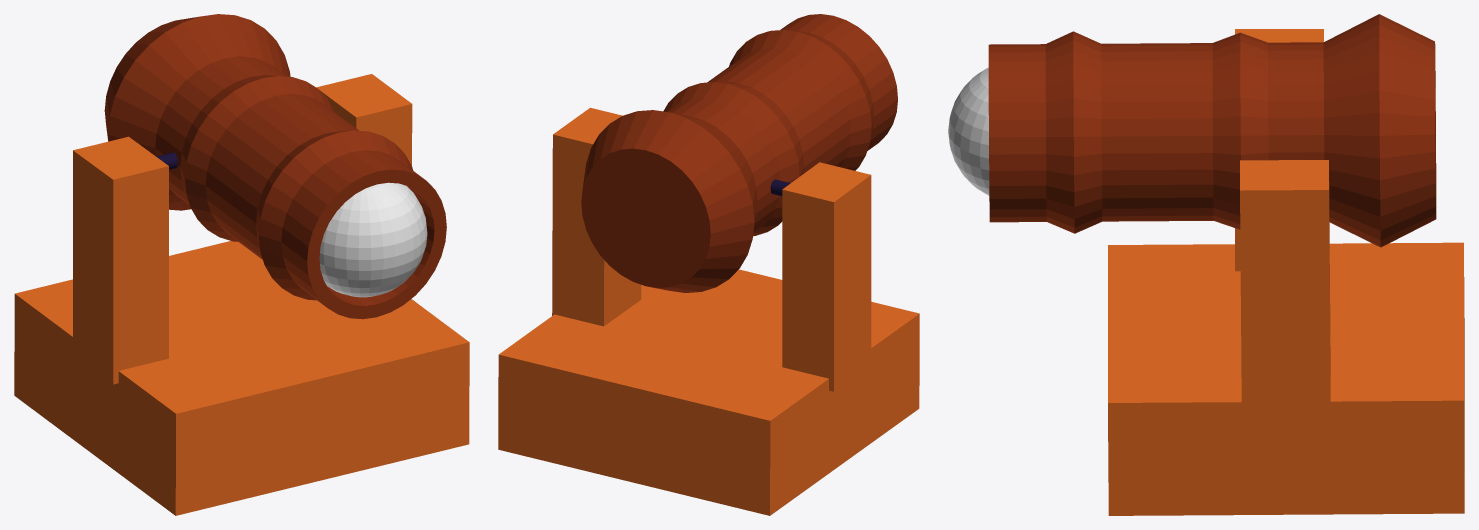
The model's file is cannon.fbx.
3 renders of one model, left to right at view 1: azimuth 30°, elevation 25°; view 2: azimuth 150°, elevation 25°; view 3: azimuth 270°, elevation 25°, orthographic. The views are drawn at different scales.
Visible parts, largest first — view 1: Cube.002, Cylinder, Cube.001, firePoint, Cube.003; view 2: Cube.002, Cylinder, Cube.001, Cube.003; view 3: Cube.002, Cylinder, Cube.003, firePoint, Cube.001.
Boxes of the visible parts, box(x1,y1,x2,y2) form: Cube.002: box(14, 241, 469, 515); Cylinder: box(104, 14, 446, 319); Cube.001: box(73, 136, 168, 384); firePoint: box(319, 182, 427, 297); Cube.003: box(316, 74, 412, 165); Cube.002: box(498, 269, 919, 515); Cylinder: box(581, 14, 897, 292); Cube.001: box(782, 162, 871, 391); Cube.003: box(552, 107, 641, 326); Cube.002: box(1108, 242, 1464, 515); Cylinder: box(988, 14, 1436, 247); Cube.003: box(1240, 160, 1330, 416); firePoint: box(948, 67, 989, 195); Cube.001: box(1235, 29, 1323, 271).
Size of what is drawn, in the model's own units: 431 by 511 by 580.
